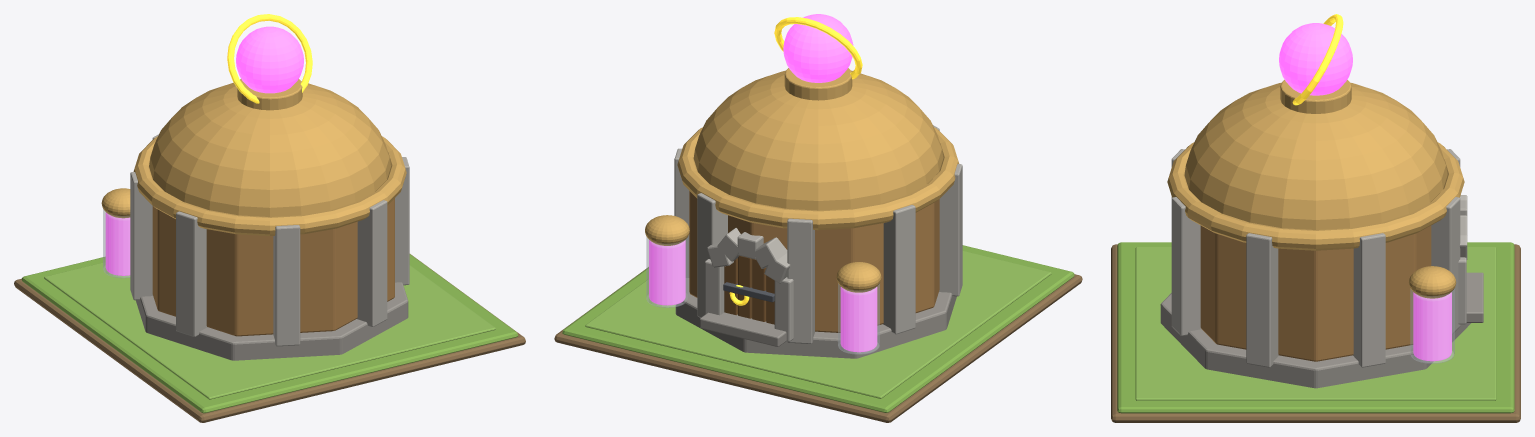
File: laboratory_lv3.glb
3 renders of one model, left to right at view 1: azimuth 30°, elevation 25°; view 2: azimuth 150°, elevation 25°; view 3: azimuth 270°, elevation 25°, orthographic. The views are drawn at different scales.
Parts seen in each view (by area): view 1: LabDome, LabWallDrum, Base_Inner, Base_Grass, LabPlinth, LabDomeRim, Base_Dirt, ArcaneOrb, LabPillar_4, LabPillar_6, LabPillar_5, LabPillar_3 (+6 smaller); view 2: LabDome, Base_Inner, Base_Grass, LabWallDrum, LabDomeRim, Base_Dirt, LabPlinth, LabPillar_3, ArcaneOrb, LabPillar_2, SideVatGlass_0, SideVatGlass_1 (+18 smaller); view 3: LabDome, Base_Inner, LabWallDrum, Base_Grass, LabDomeRim, Base_Dirt, LabPlinth, LabPillar_0, LabPillar_7, ArcaneOrb, LabPillar_6, SideVatGlass_0 (+7 smaller).
Boxes of the visible parts, left/top/right/bottom form: LabDome: left=149, top=82, right=390, bottom=216; LabWallDrum: left=152, top=198, right=394, bottom=336; Base_Inner: left=44, top=262, right=495, bottom=399; Base_Grass: left=21, top=254, right=518, bottom=413; LabPlinth: left=136, top=282, right=408, bottom=360; LabDomeRim: left=133, top=136, right=406, bottom=235; Base_Dirt: left=14, top=254, right=525, bottom=422; ArcaneOrb: left=236, top=26, right=303, bottom=93; LabPillar_4: left=176, top=211, right=207, bottom=336; LabPillar_6: left=357, top=200, right=387, bottom=327; LabPillar_5: left=273, top=225, right=300, bottom=346; LabPillar_3: left=130, top=172, right=152, bottom=300; LabDome: left=693, top=70, right=943, bottom=210; Base_Inner: left=585, top=251, right=1051, bottom=398; Base_Grass: left=562, top=245, right=1074, bottom=412; LabWallDrum: left=689, top=191, right=939, bottom=332; LabDomeRim: left=677, top=127, right=959, bottom=230; Base_Dirt: left=554, top=268, right=1082, bottom=422; LabPlinth: left=675, top=278, right=956, bottom=358; LabPillar_3: left=883, top=205, right=915, bottom=334; ArcaneOrb: left=783, top=14, right=853, bottom=82; LabPillar_2: left=787, top=218, right=814, bottom=343; SideVatGlass_0: left=646, top=236, right=688, bottom=307; SideVatGlass_1: left=838, top=283, right=879, bottom=354; LabDome: left=1184, top=82, right=1447, bottom=229; Base_Inner: left=1135, top=247, right=1496, bottom=400; LabWallDrum: left=1200, top=225, right=1431, bottom=361; Base_Grass: left=1117, top=242, right=1514, bottom=413; LabDomeRim: left=1167, top=142, right=1464, bottom=250; Base_Dirt: left=1111, top=244, right=1520, bottom=422; LabPlinth: left=1160, top=293, right=1470, bottom=388; LabPillar_0: left=1353, top=233, right=1385, bottom=367; LabPillar_7: left=1246, top=233, right=1278, bottom=367; ArcaneOrb: left=1279, top=23, right=1352, bottom=95; LabPillar_6: left=1171, top=197, right=1201, bottom=335; SideVatGlass_0: left=1410, top=288, right=1454, bottom=363.
Size of the model in its own units: 2.76 by 2.37 by 2.76.
